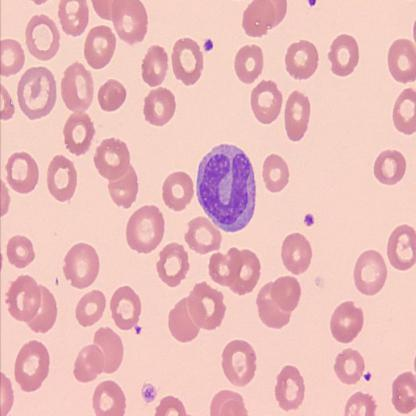Monocyte: (194, 140, 260, 235)
